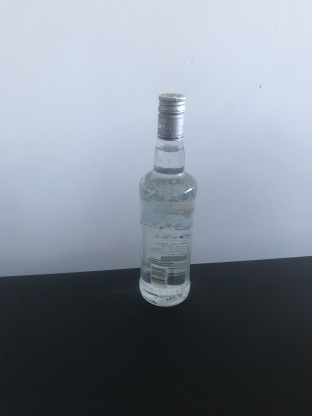nakretka: (155, 90, 187, 142)
